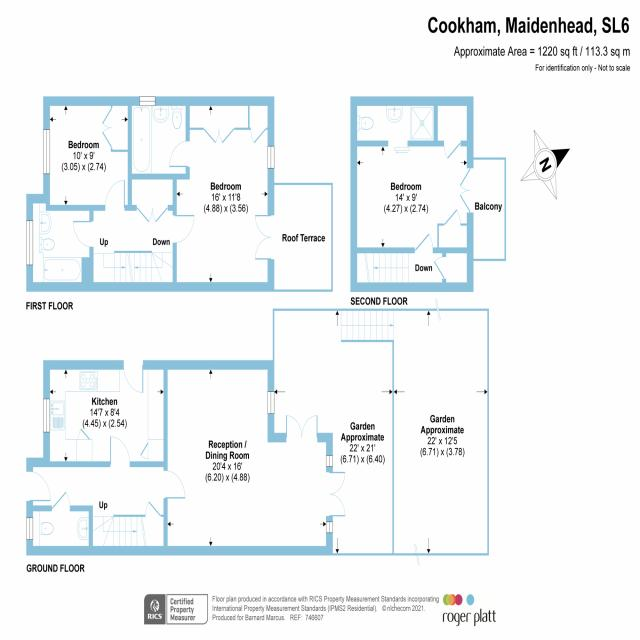DOOR: (25, 470, 52, 502), (122, 359, 144, 395), (163, 469, 186, 500), (104, 179, 126, 211), (109, 435, 131, 467), (172, 214, 195, 244), (72, 221, 94, 248), (169, 140, 190, 168), (414, 232, 434, 254), (51, 490, 71, 511), (443, 140, 461, 161), (144, 499, 162, 517)
DOUBLE DOOR: (254, 213, 275, 261), (285, 414, 318, 442), (329, 472, 346, 517), (459, 168, 474, 213)
ROOM: (162, 360, 346, 556), (168, 96, 274, 292), (350, 140, 474, 254), (43, 360, 168, 468), (43, 96, 132, 211)
SLIDING DOOR: (387, 140, 411, 151)
WINDOW: (43, 129, 50, 174), (26, 220, 33, 265), (43, 398, 51, 433), (267, 145, 275, 169), (26, 517, 34, 541), (267, 391, 275, 415), (139, 96, 156, 106), (326, 521, 333, 533), (326, 455, 333, 467)
